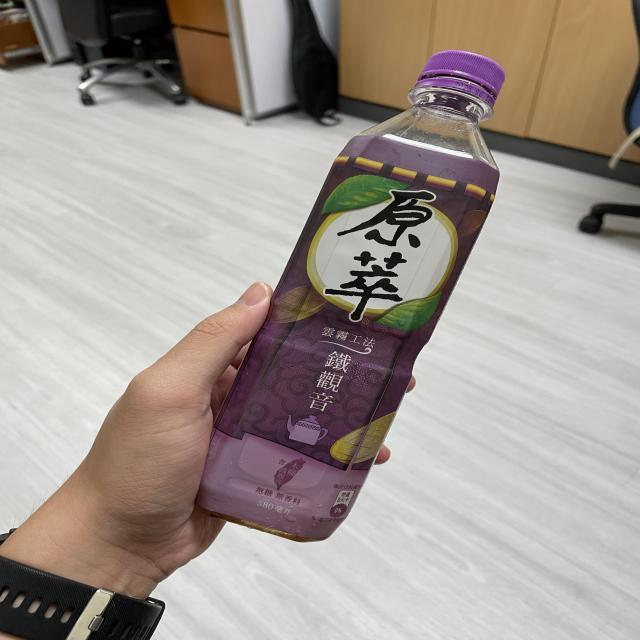YuanTsui_TieGuanYing: (150, 21, 577, 570)
